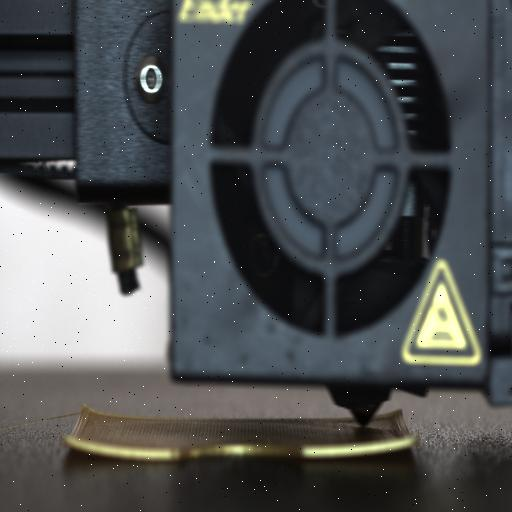warp: (376, 426, 419, 468), (57, 424, 91, 464), (392, 398, 410, 424), (79, 404, 101, 422)
